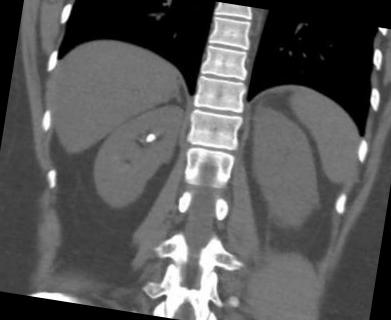Tas_Var: (144, 130, 156, 144), (138, 138, 144, 144)
